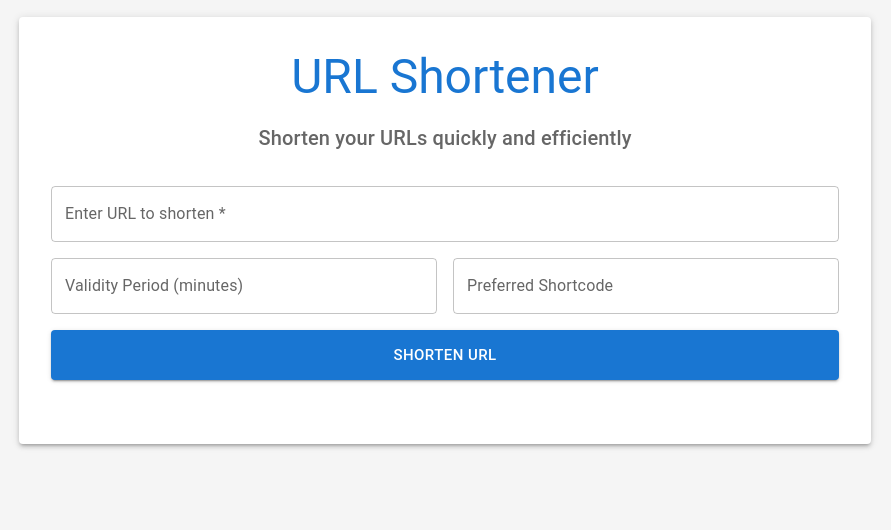
Test case: UrlShortener Component › shows validation error for invalid URL format
Step 1. Type "not-a-valid-url" into the field labelled "Enter URL to shorten *" → (445, 214), box [51,186,839,242]
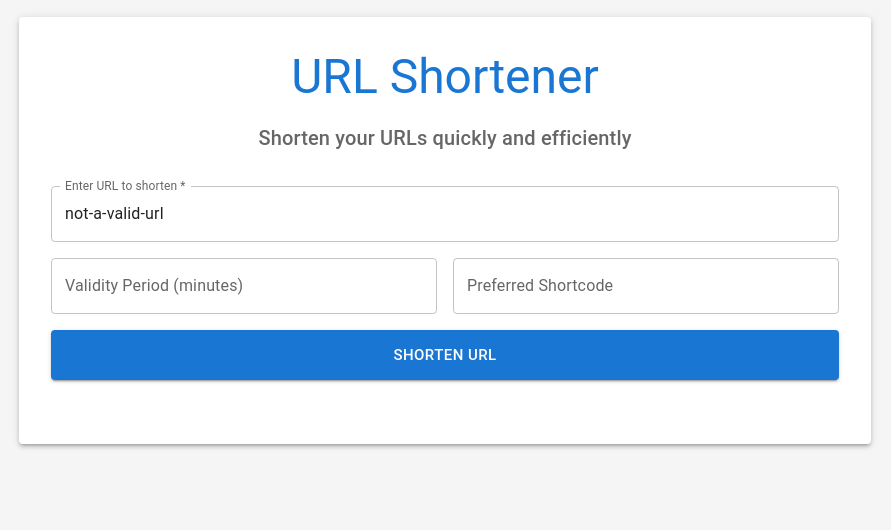
Step 2. Click the button "Shorten URL" → (445, 355), box [51,330,839,380]
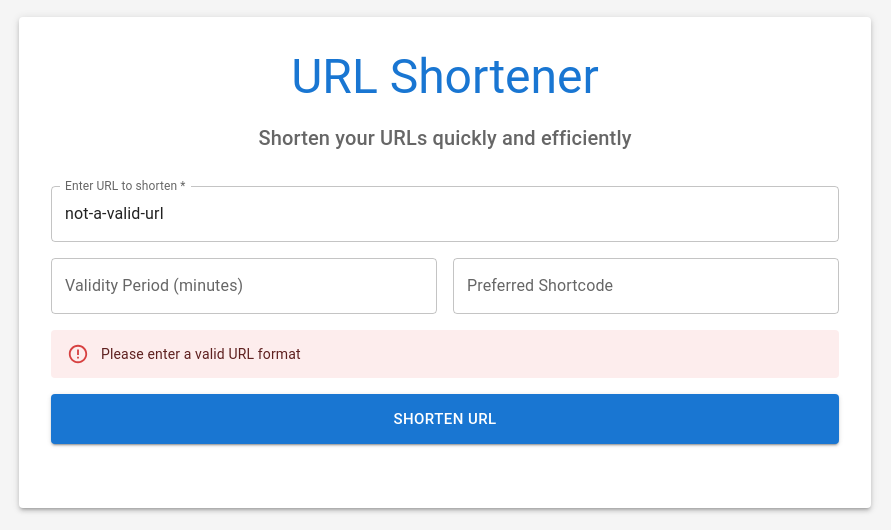
Expected: the text "Please enter a valid URL format" is shown, [101,346,301,362]
